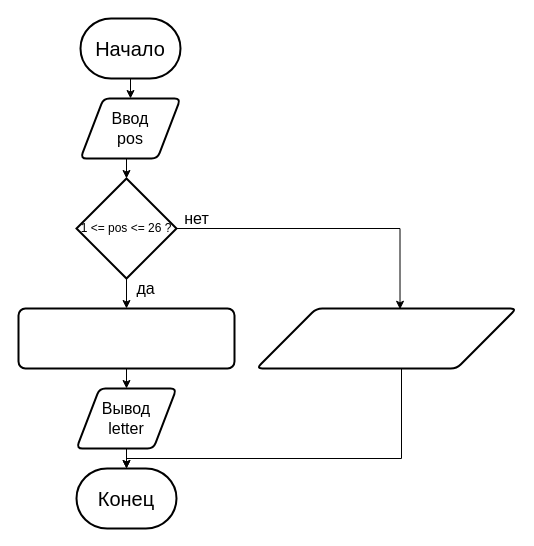
Some shapes in this 534 by 546 pixel diagram are drawn without their labels. The shapes that lost their labels are listed below. From the top down, each one's centre as x and y in pixels, then its label:
At point 126,338: "letter = chr(ord('a') + pos - 1)".
At point 386,338: "Вывод сообщения, что pos вне алфавита".
